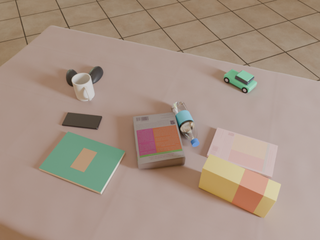book: (39, 132, 125, 194), (207, 128, 278, 178), (133, 112, 185, 169)
bottle: (171, 102, 199, 147)
box: (199, 154, 281, 218)
cup: (71, 73, 94, 101)
mouse: (89, 66, 103, 84), (66, 69, 77, 86)
phone: (62, 113, 102, 129)
toy_car: (224, 69, 257, 93)
